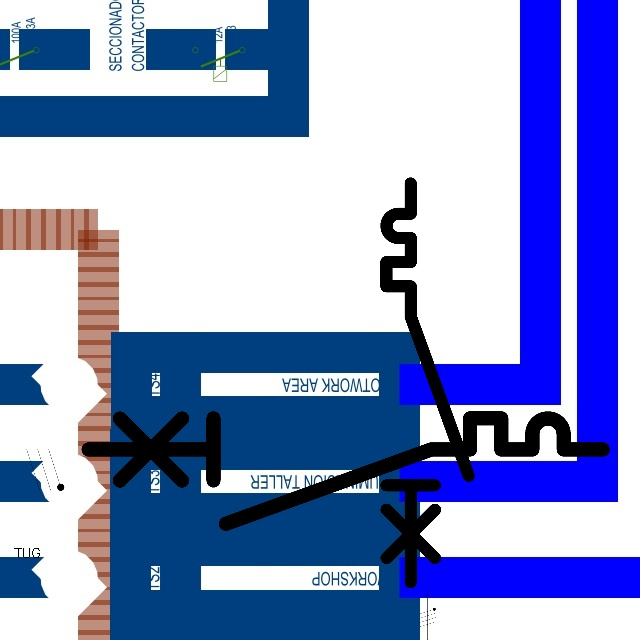interruptor_termomagnetico: (75, 405, 616, 537), (376, 173, 478, 592)
